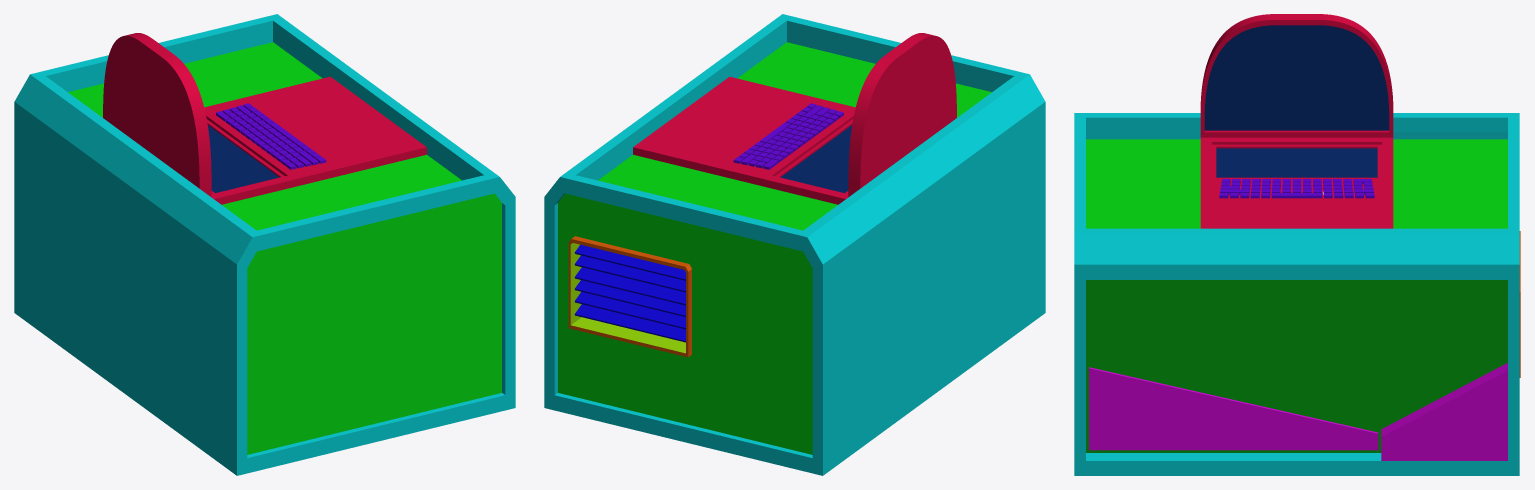
The model's file is generator.fbx.
3 renders of one model, left to right at view 1: azimuth 30°, elevation 25°; view 2: azimuth 150°, elevation 25°; view 3: azimuth 270°, elevation 25°, orthographic.
Visible parts, largest first — view 1: Box001; view 2: Box001; view 3: Box001.
Boxes of the visible parts, box(x1,y1,x2,y2) form: Box001: box(14, 14, 515, 475); Box001: box(544, 14, 1045, 475); Box001: box(1074, 14, 1520, 475).
Size of the model in its own units: 5.77 by 6.71 by 8.01.
